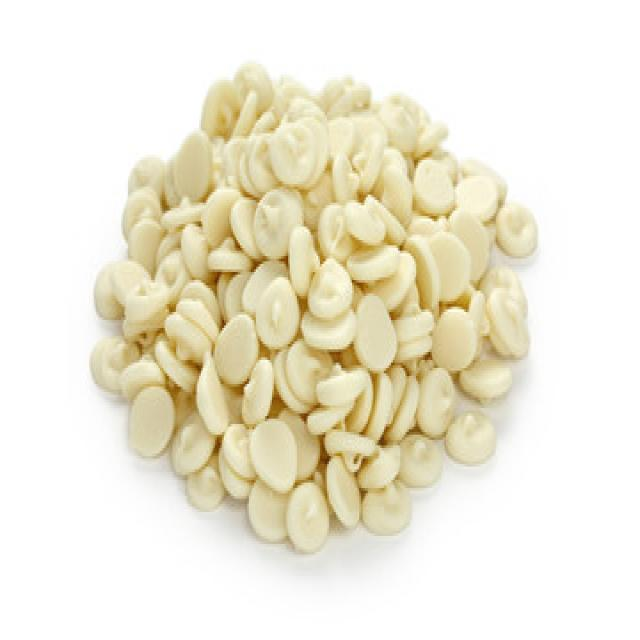Chocolate: (86, 58, 540, 557)
